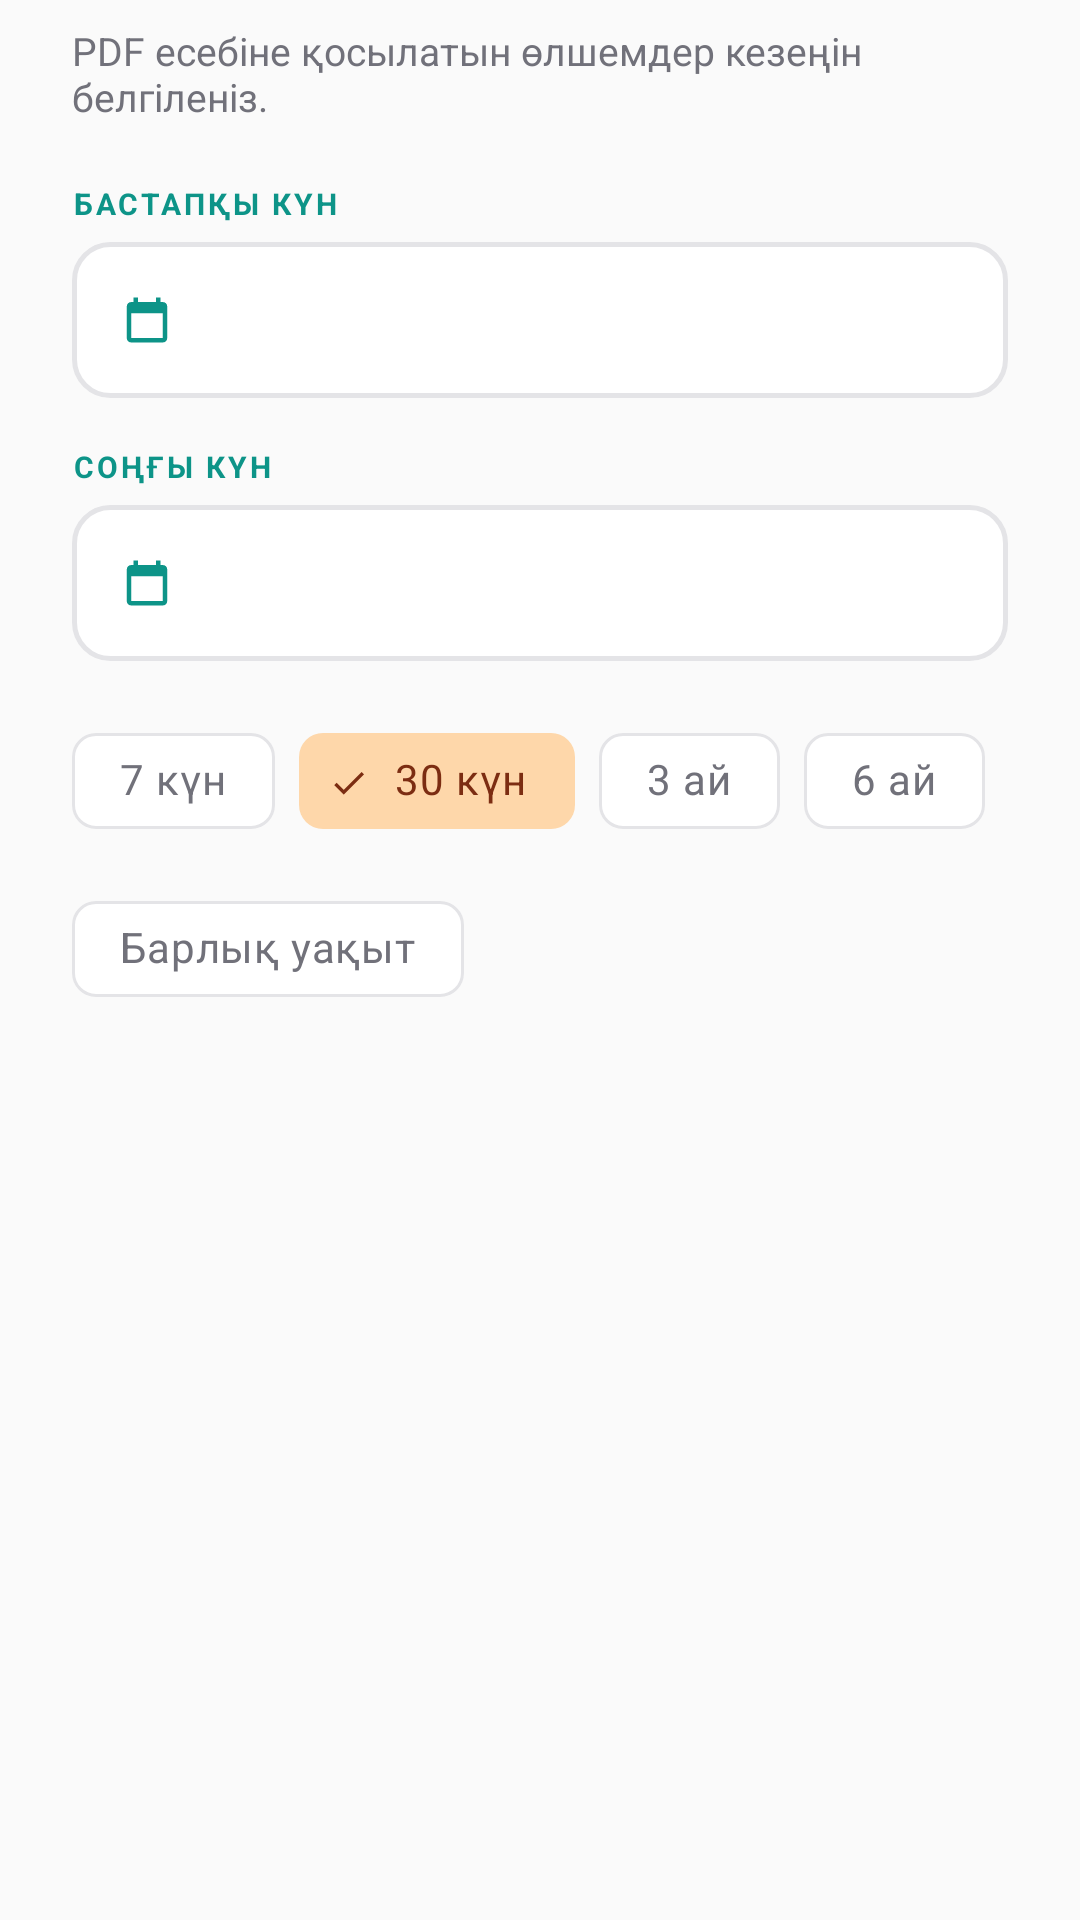

Point at icon controls on the screen. Image size 1080 × 1920, points as [x,y].
calendar: [147,320], [147,583]
